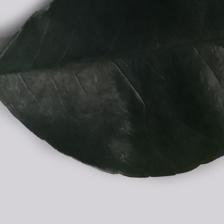healthy: (10, 8, 222, 152)
